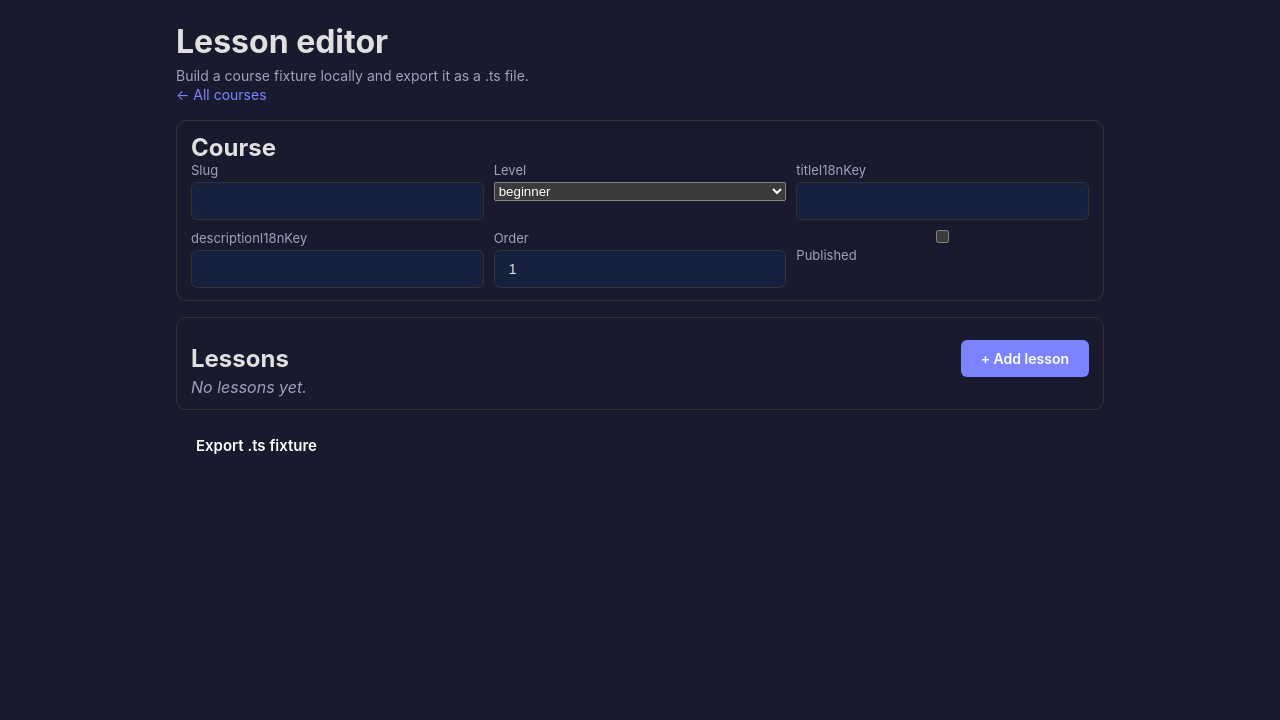
Test: <LessonEditorPage> › удаление урока → список пустеет
Click the button with test id "editor-add-lesson": (1025, 358) x1=961 y1=340 x2=1089 y2=377
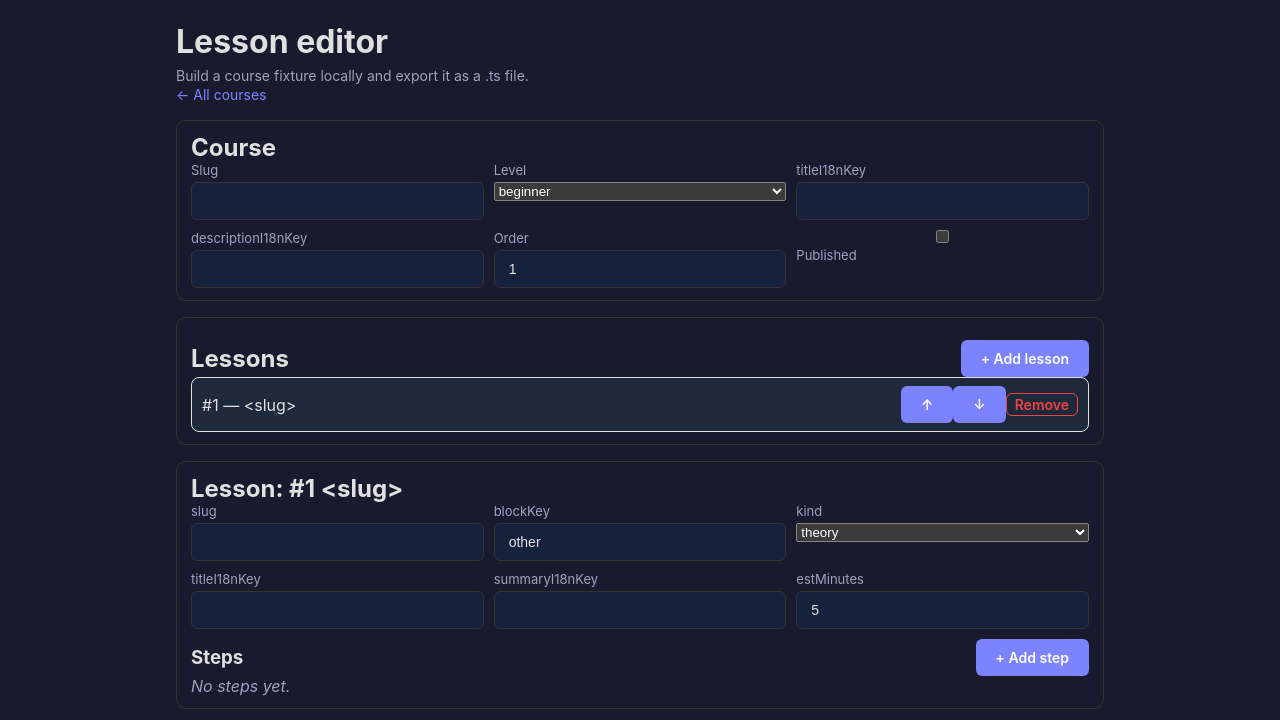
Check: the button with test id "editor-lesson-remove-" is shown
Click the button with test id "editor-lesson-remove-": (1042, 404) x1=1006 y1=393 x2=1078 y2=416
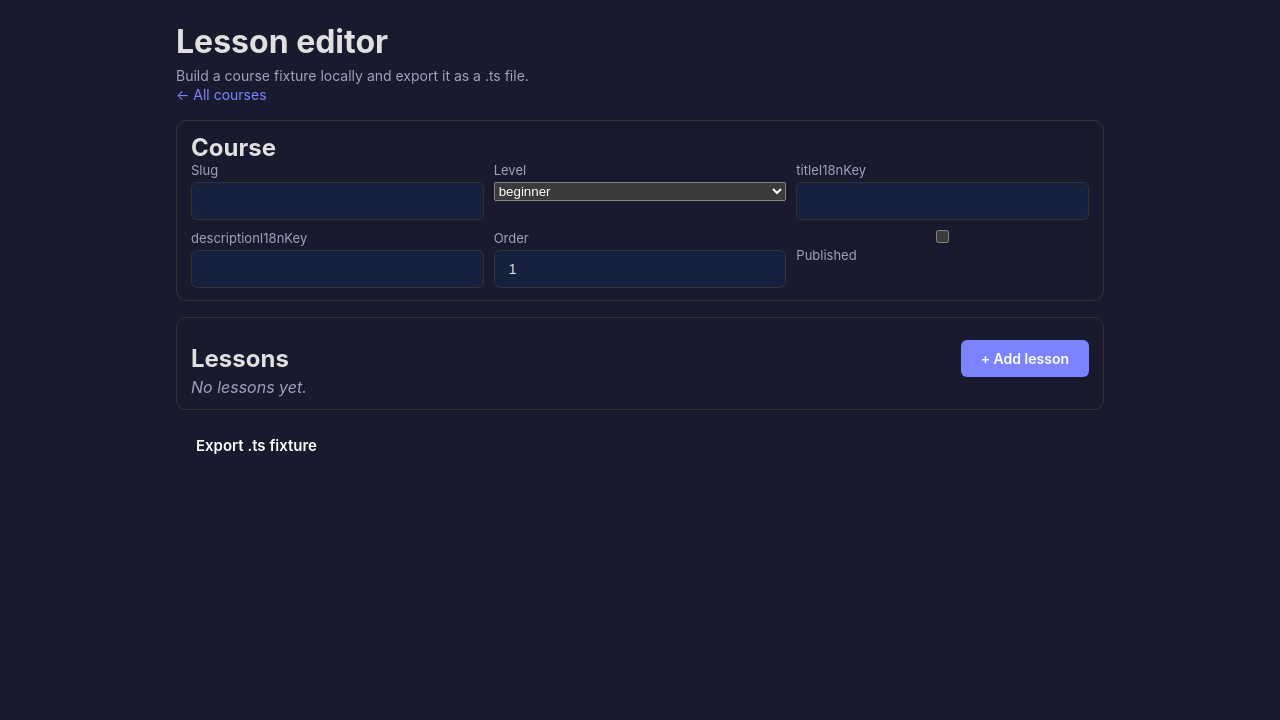
Check: the text "No lessons yet." is shown, box x1=191 y1=377 x2=307 y2=397
